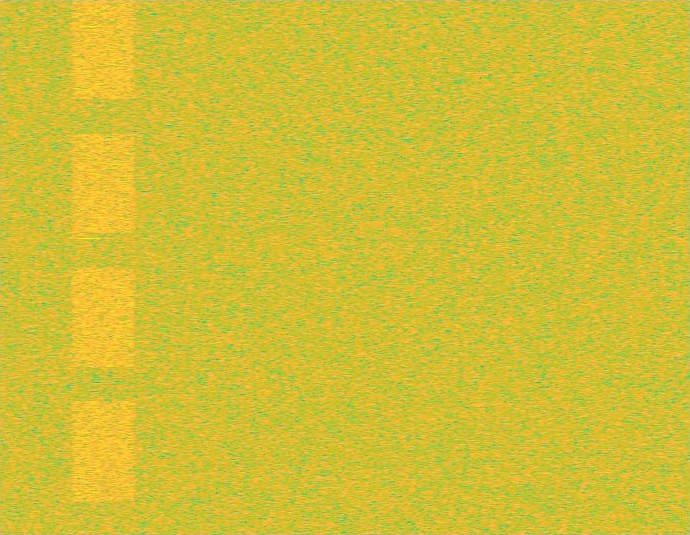5G: (69, 0, 138, 534)
Radar: (82, 0, 96, 534)
